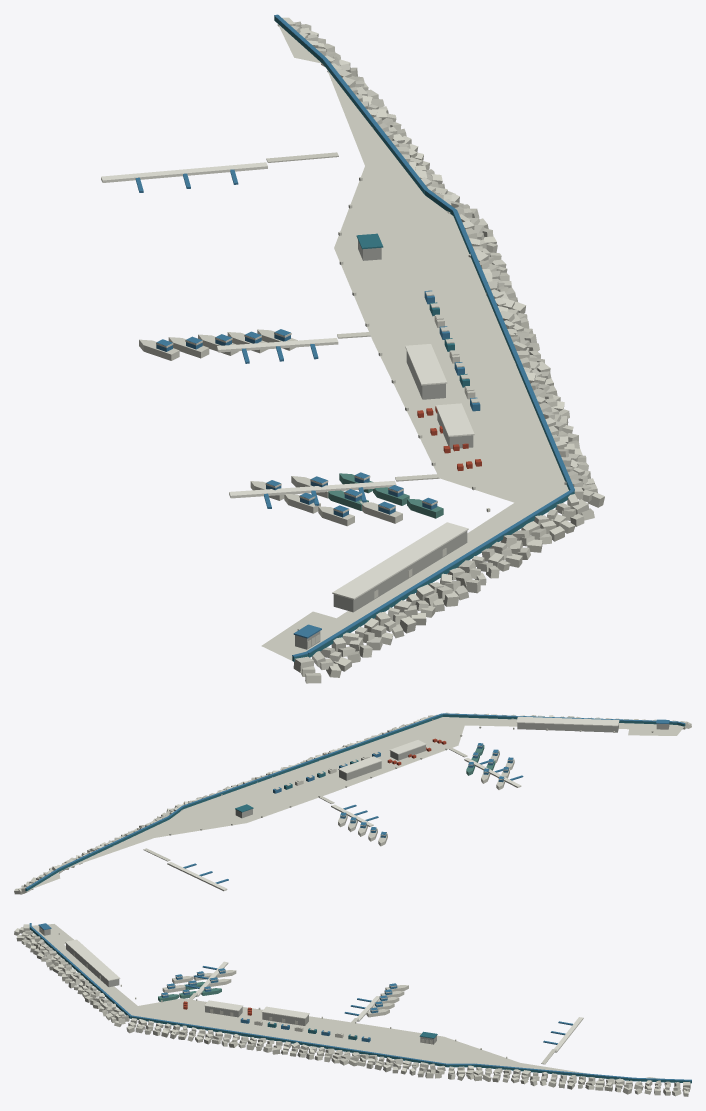
Rendered from harbor_no_bridge.dae.
3 renders of one model, top to bottom at view 1: azimuth 30°, elevation 25°; view 2: azimuth 150°, elevation 25°; view 3: azimuth 270°, elevation 25°, orthographic. The views are drawn at different scales.
Visible parts, largest first — view 1: Boat; view 2: Boat; view 3: Boat.
Part boxes in pixels (x1,y1,x2,y2): Boat: (101,14,604,683); Boat: (14,712,691,894); Boat: (14,923,691,1096).
Size of the model in its own units: 165 by 284 by 7.46.
1 material, 1 textured.
